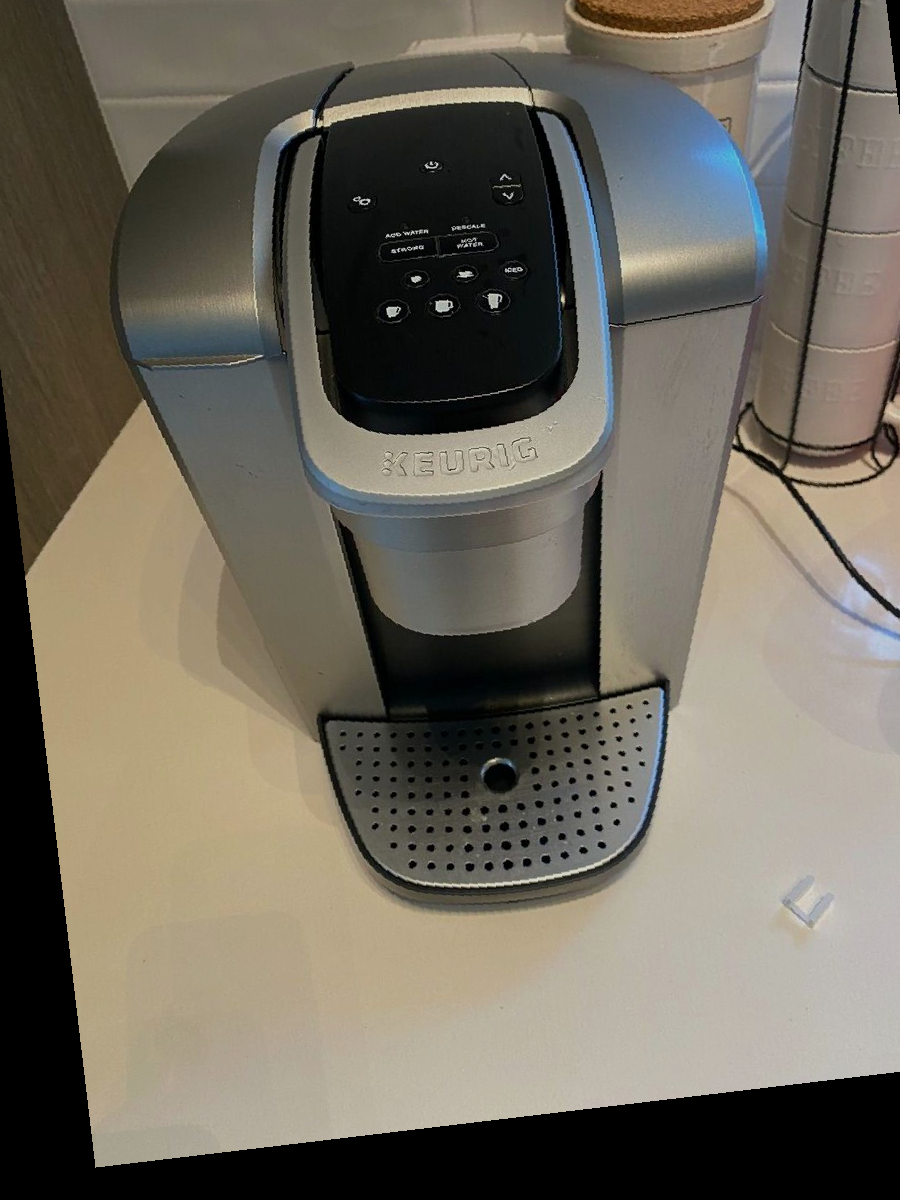10oz: (424, 291, 465, 320)
12oz: (473, 287, 514, 315)
4oz: (400, 269, 431, 289)
6oz: (449, 264, 479, 284)
8oz: (374, 298, 415, 326)
add_water: (372, 215, 434, 242)
descale: (433, 208, 496, 235)
hot: (436, 228, 500, 257)
iced: (500, 260, 531, 280)
power: (417, 156, 446, 177)
strong: (375, 236, 438, 264)
